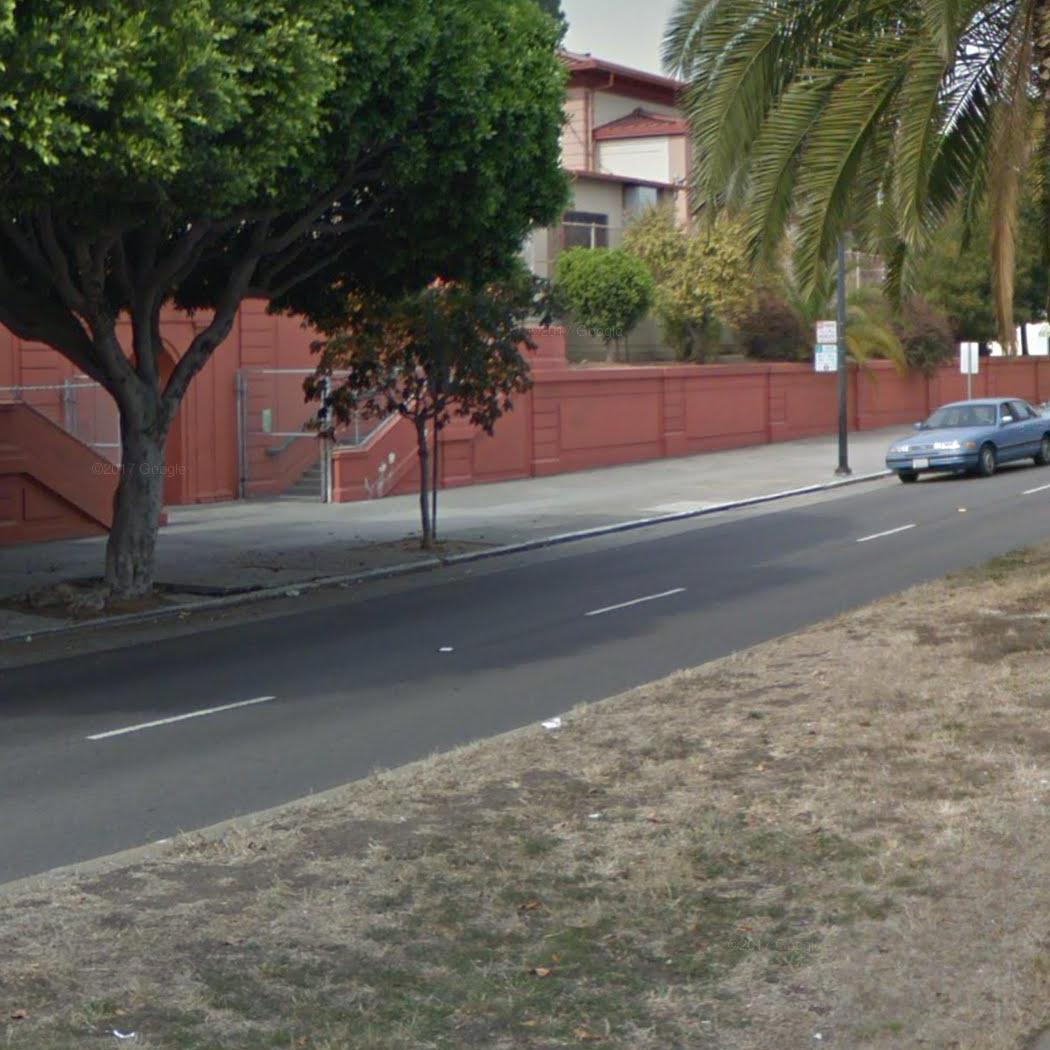2 Hour Parking: (812, 342, 840, 373)
No Parking: (814, 318, 838, 344)
